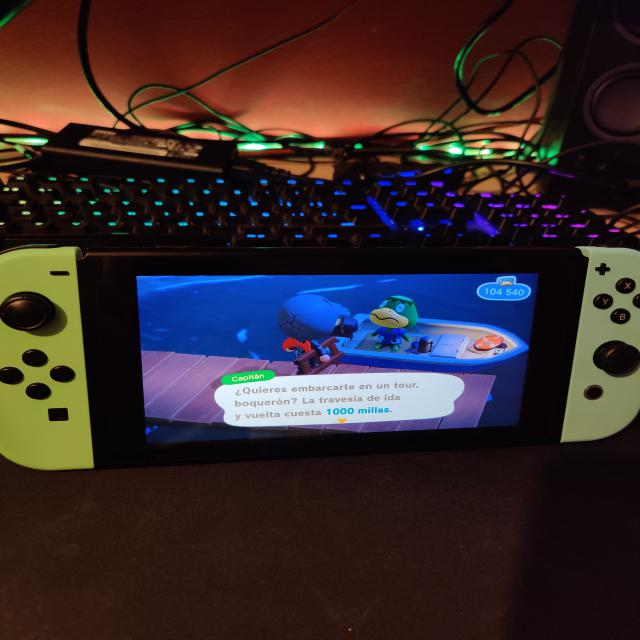text_bubble: (213, 370, 469, 430)
